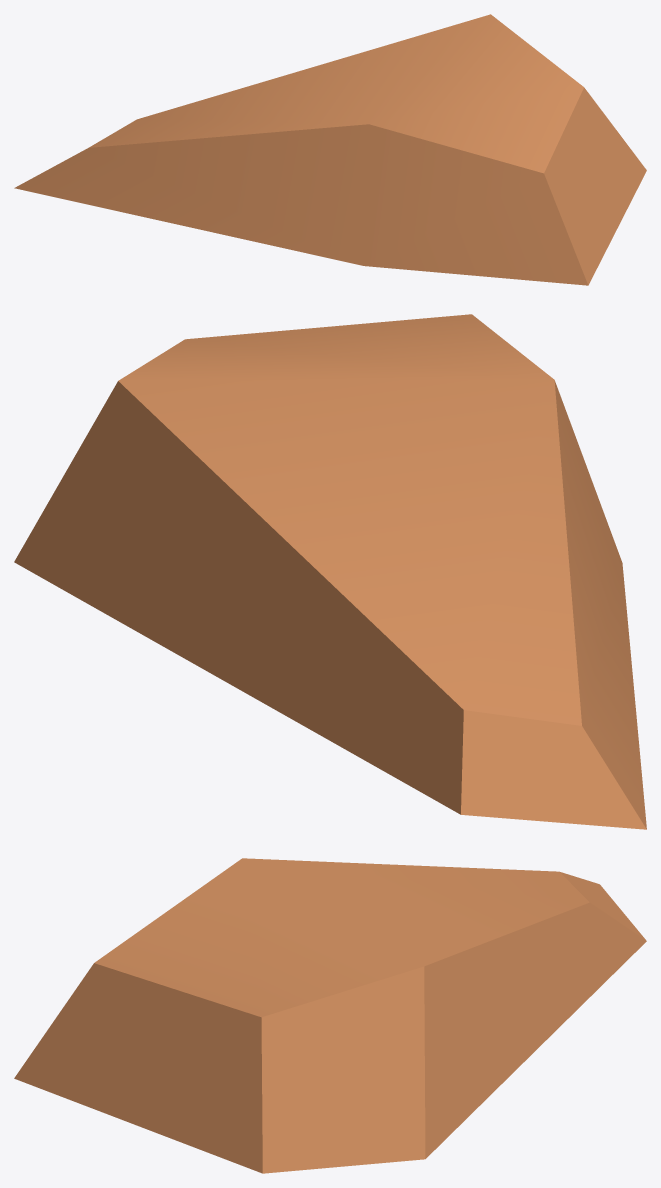
Rendered from rocksmall2.fbx.
3 views of the same model, one above another, from view 1: azimuth 30°, elevation 25°; view 2: azimuth 150°, elevation 25°; view 3: azimuth 270°, elevation 25° (orthographic). The views are drawn at different scales.
Parts seen in each view (by area): view 1: rocksmall2; view 2: rocksmall2; view 3: rocksmall2.
Boxes of the visible parts, x1,y1,x2,y2 form: rocksmall2: [14, 14, 646, 285]; rocksmall2: [14, 314, 646, 829]; rocksmall2: [14, 858, 646, 1173].
Size of the model in its own units: 97.7 by 24.4 by 90.31.
